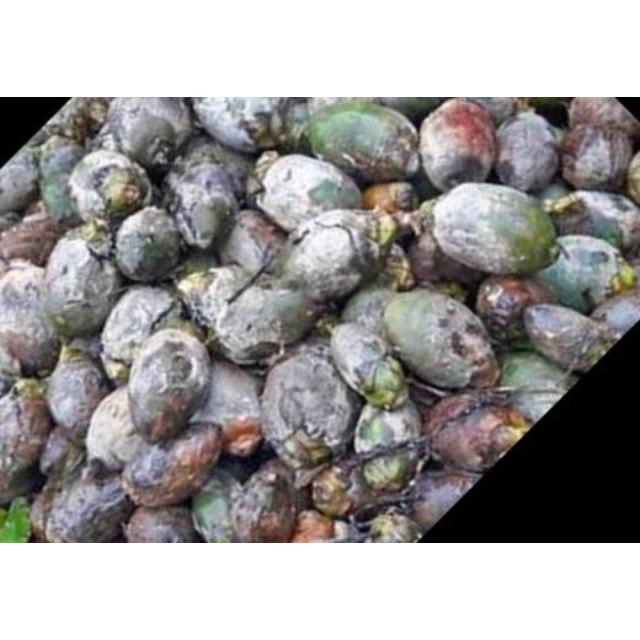damaged: (259, 346, 363, 470), (430, 182, 558, 278), (382, 288, 498, 392), (276, 209, 386, 305), (125, 327, 211, 445), (206, 276, 318, 366), (301, 100, 421, 184), (424, 391, 530, 477), (42, 236, 125, 340), (256, 154, 364, 233), (420, 98, 500, 192), (100, 286, 184, 374), (328, 321, 409, 412), (191, 360, 263, 458), (0, 267, 62, 378), (166, 161, 242, 251), (66, 149, 152, 227), (101, 97, 190, 171), (48, 470, 132, 544), (45, 343, 111, 435), (232, 460, 304, 542), (342, 444, 426, 514), (522, 302, 604, 373), (408, 220, 488, 290), (492, 110, 560, 192), (556, 190, 640, 256), (1, 384, 52, 491), (558, 121, 634, 192), (475, 275, 553, 343), (112, 208, 182, 282), (191, 97, 281, 153), (404, 467, 480, 533), (84, 388, 142, 470), (36, 139, 90, 227), (355, 402, 423, 468), (220, 210, 286, 278), (500, 354, 574, 402), (1, 212, 64, 268), (589, 288, 639, 346), (192, 480, 238, 542), (0, 150, 40, 220), (124, 506, 196, 542)
